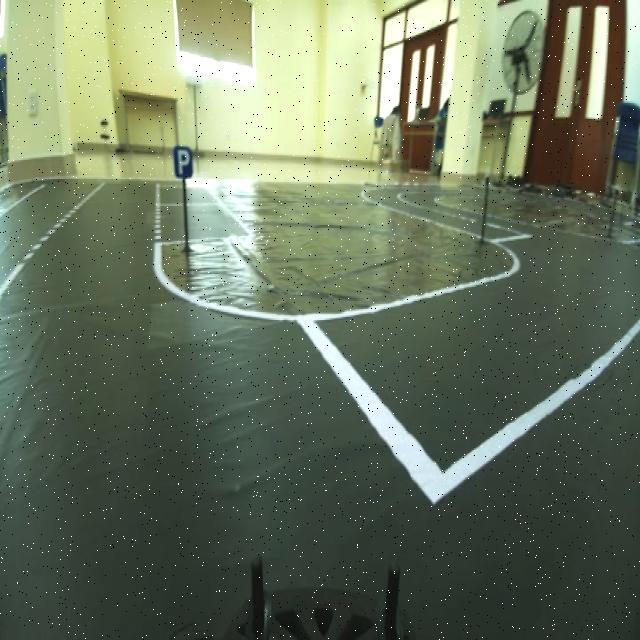parking: (167, 143, 194, 180)
